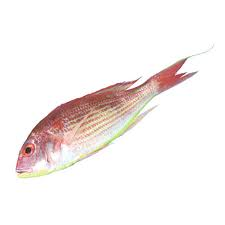Ikan Kerisi: (13, 73, 182, 179)
